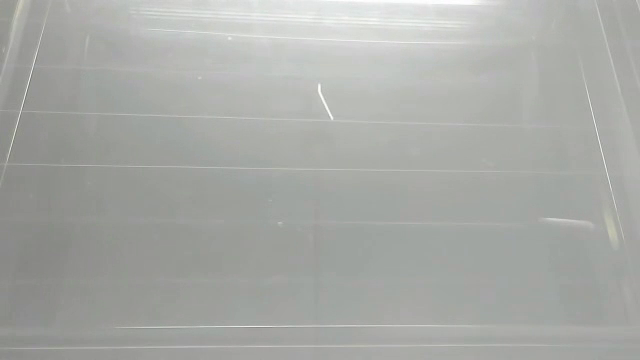alpha: (534, 212, 598, 234), (313, 78, 337, 124)
